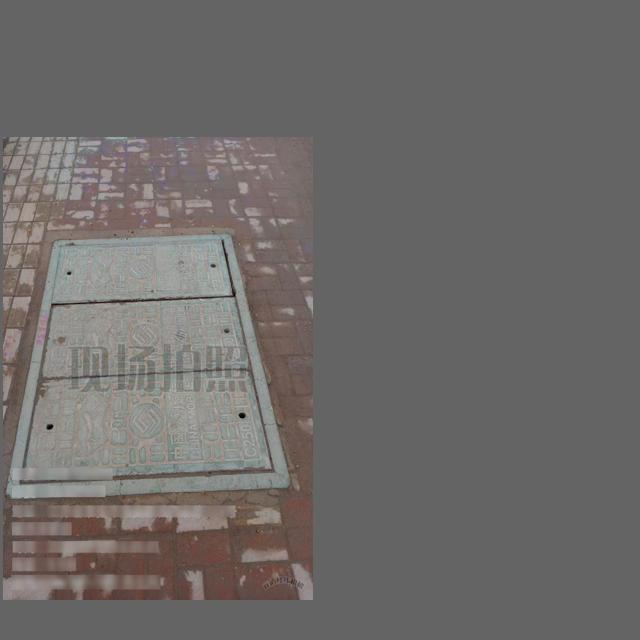good: (5, 232, 292, 498)
